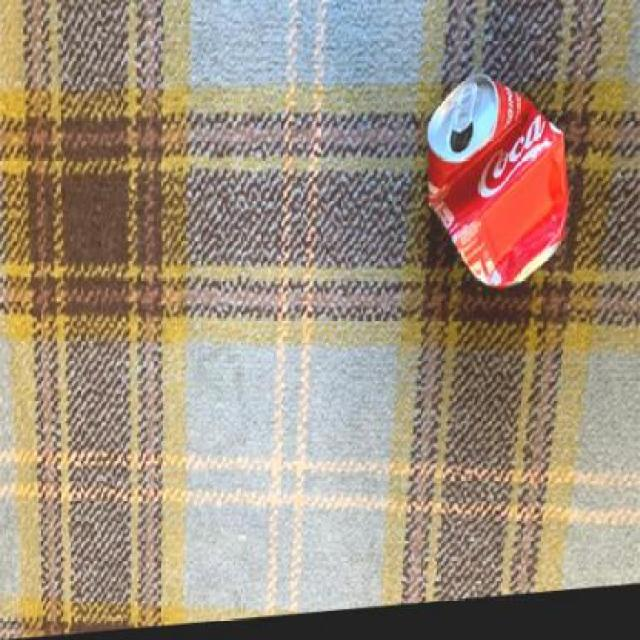Metal: (423, 68, 571, 286)
